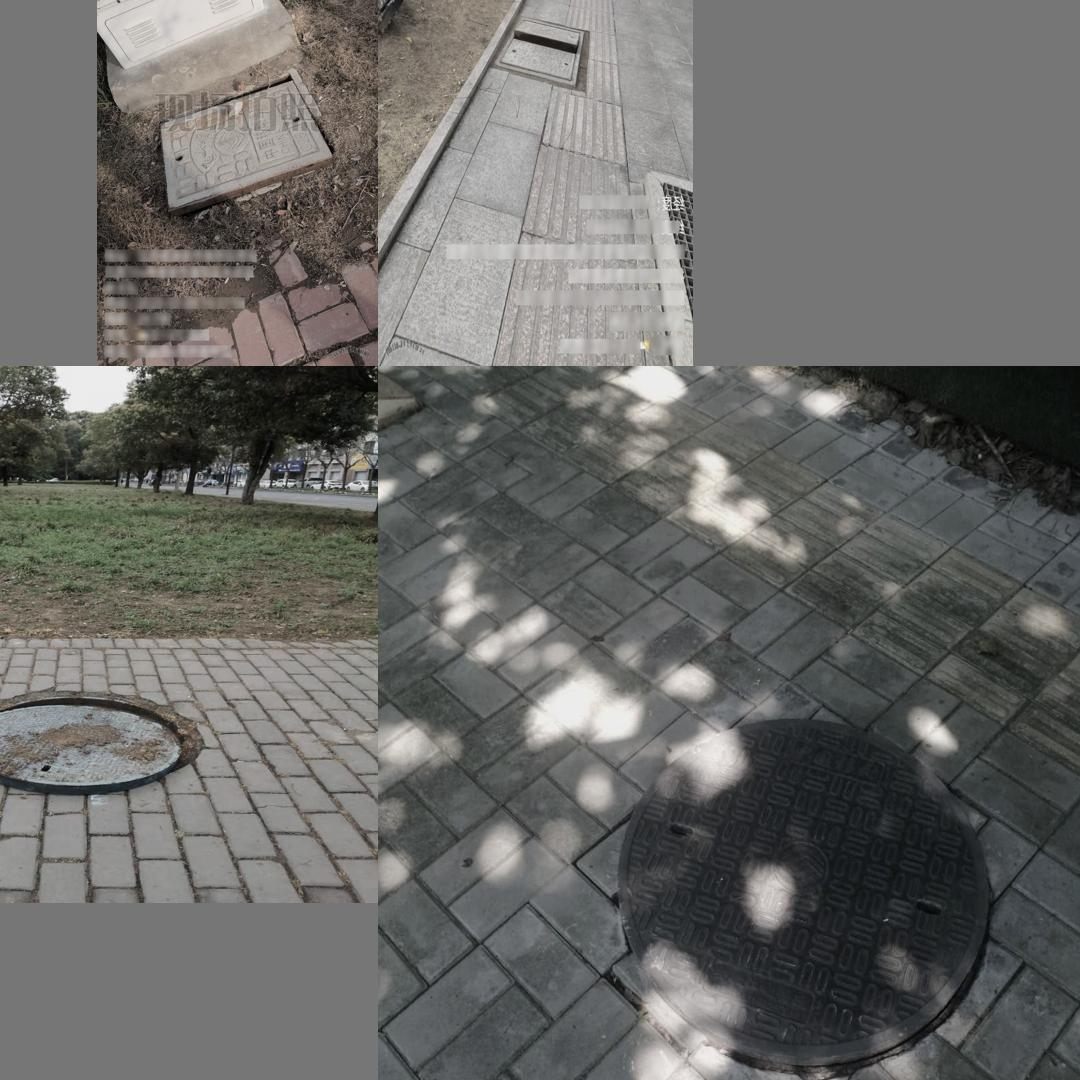uncovered: (583, 686, 1039, 1067), (159, 68, 332, 210), (0, 691, 192, 791), (495, 17, 586, 88)
